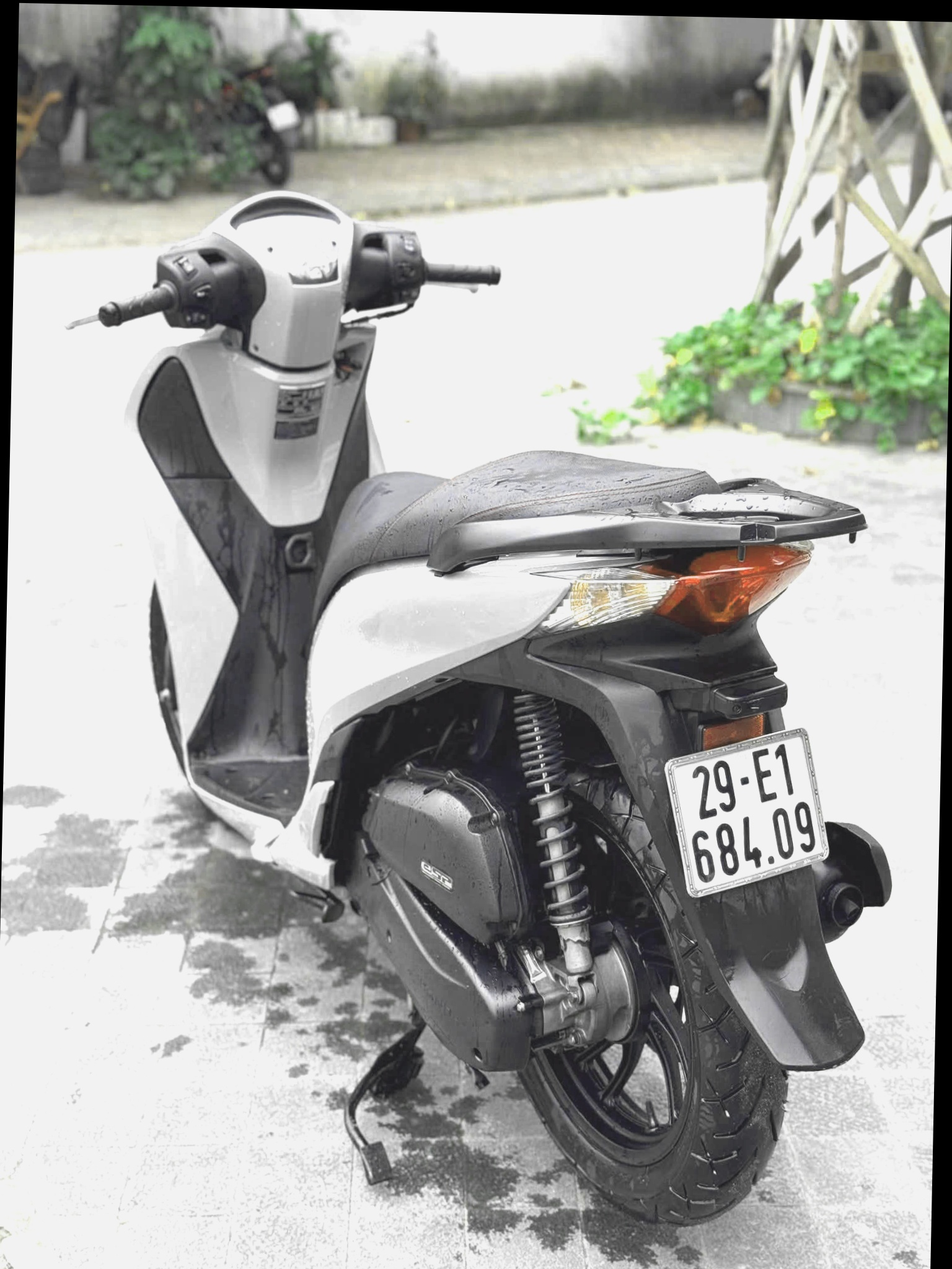Bien-so: (630, 708, 819, 907)
